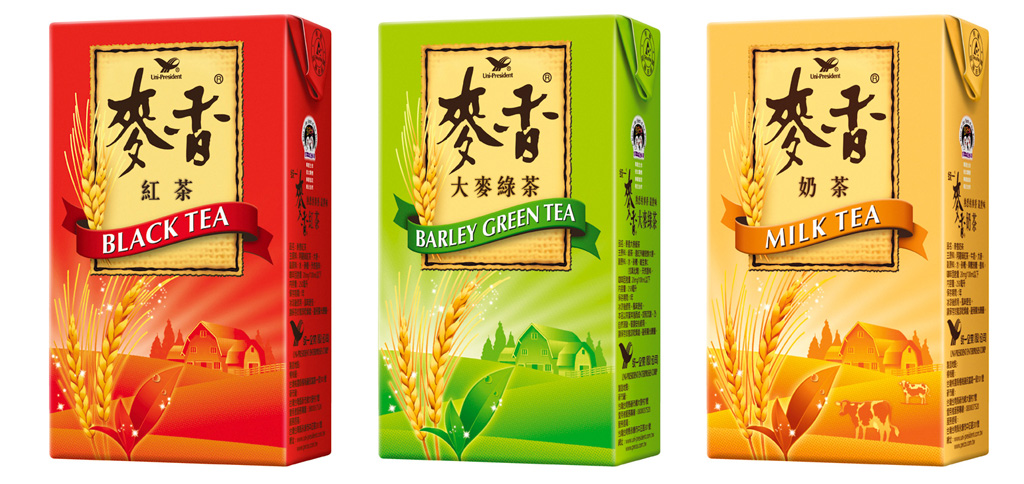milk tea: (702, 17, 989, 475)
